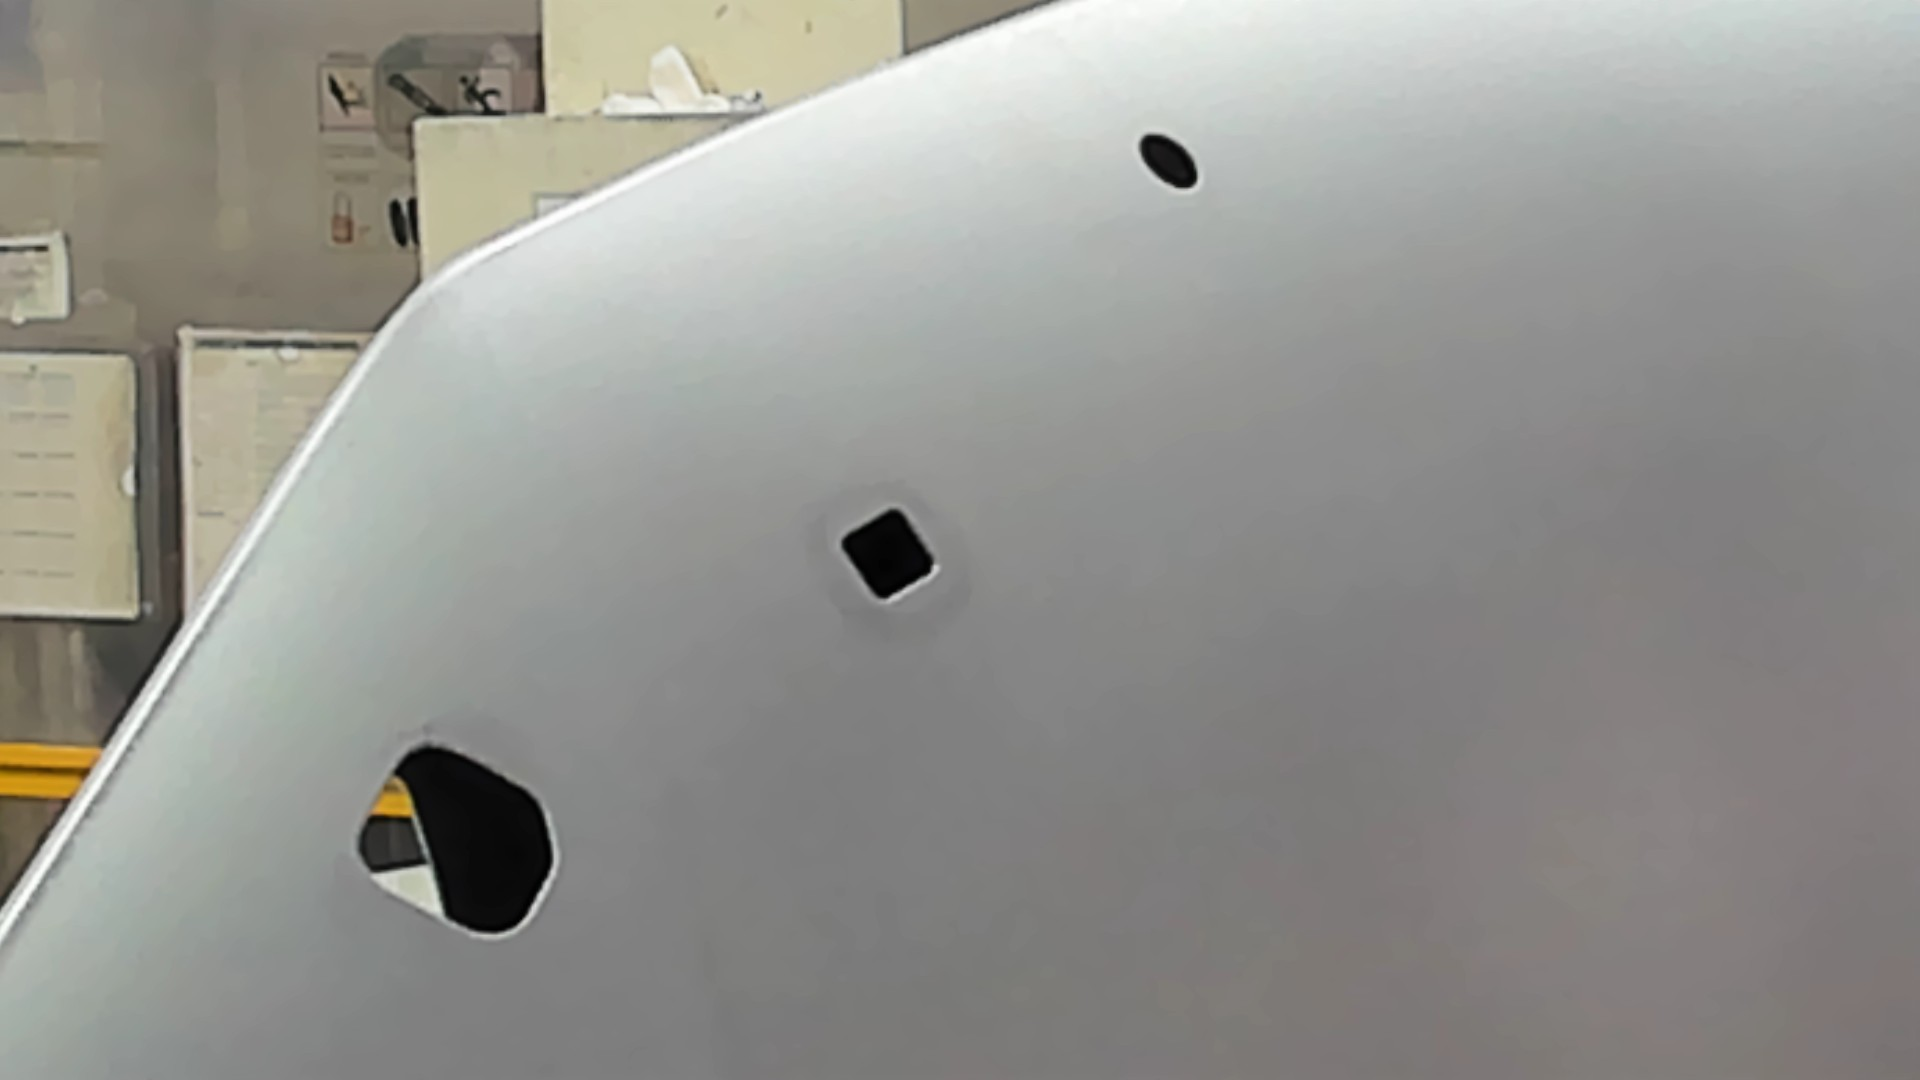chico: (1137, 127, 1203, 196)
grande: (351, 736, 560, 944)
mediano: (833, 500, 945, 613)
